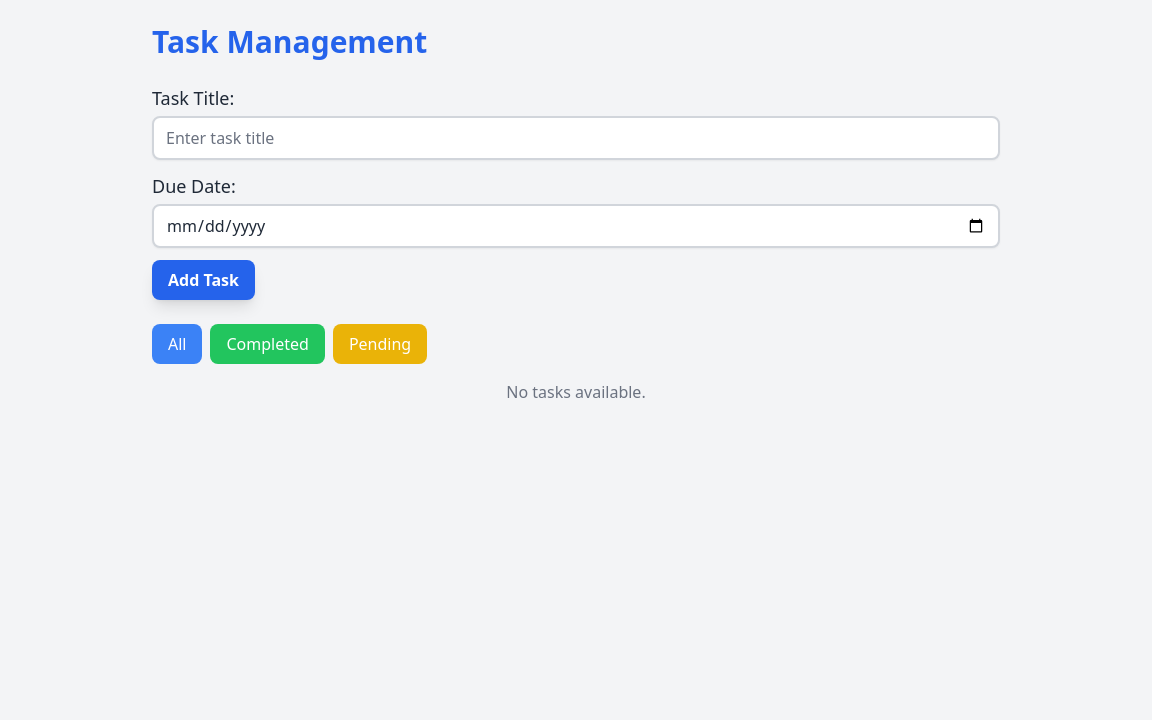
Test: HomePage › can edit a task
Type "Task to Edit" into the field with placeholder "Enter task title" at (576, 138), box [152,116,1000,160]
Type "2024-09-12" into the date field labelled "Due Date:" at (576, 226), box [152,204,1000,248]
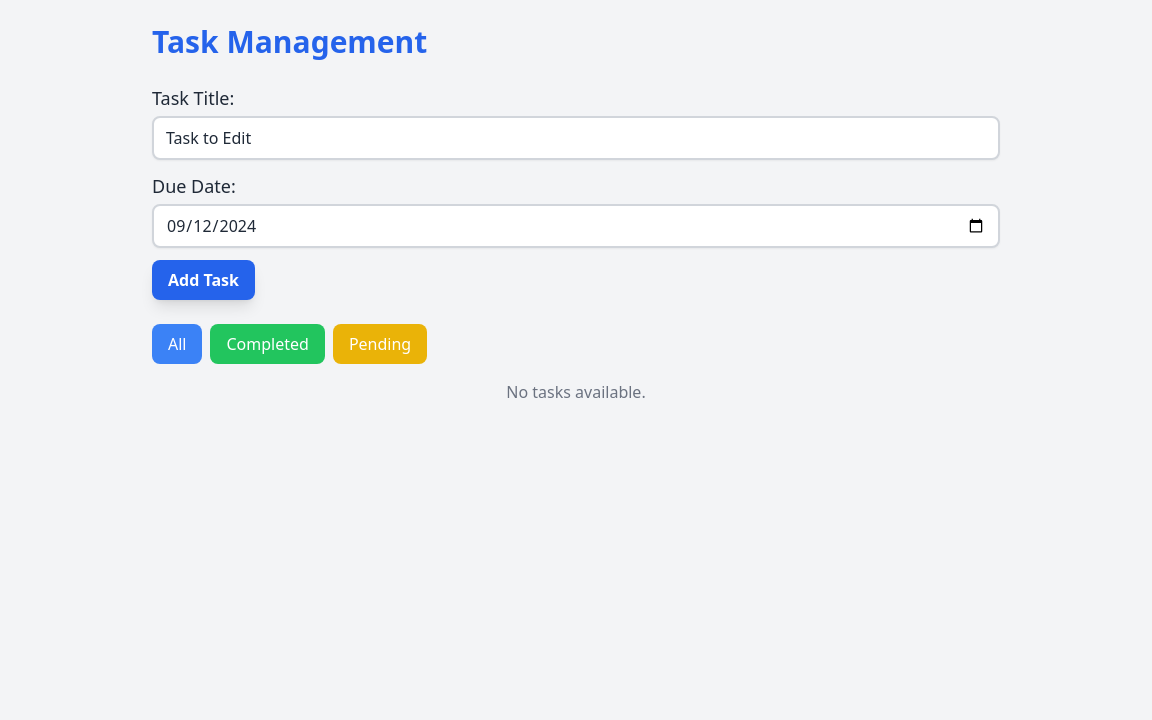
Click the button "Add Task" at (204, 280), box [152,260,255,300]
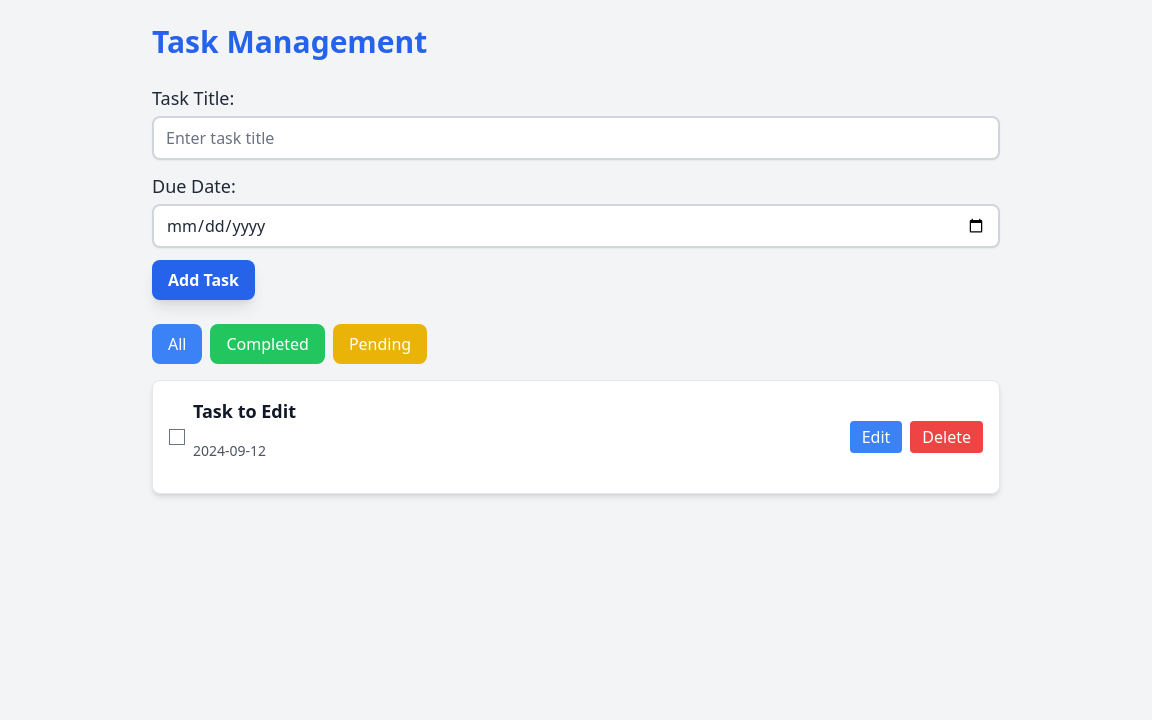
Click the button "Edit" at (876, 437), box [850,421,902,453]
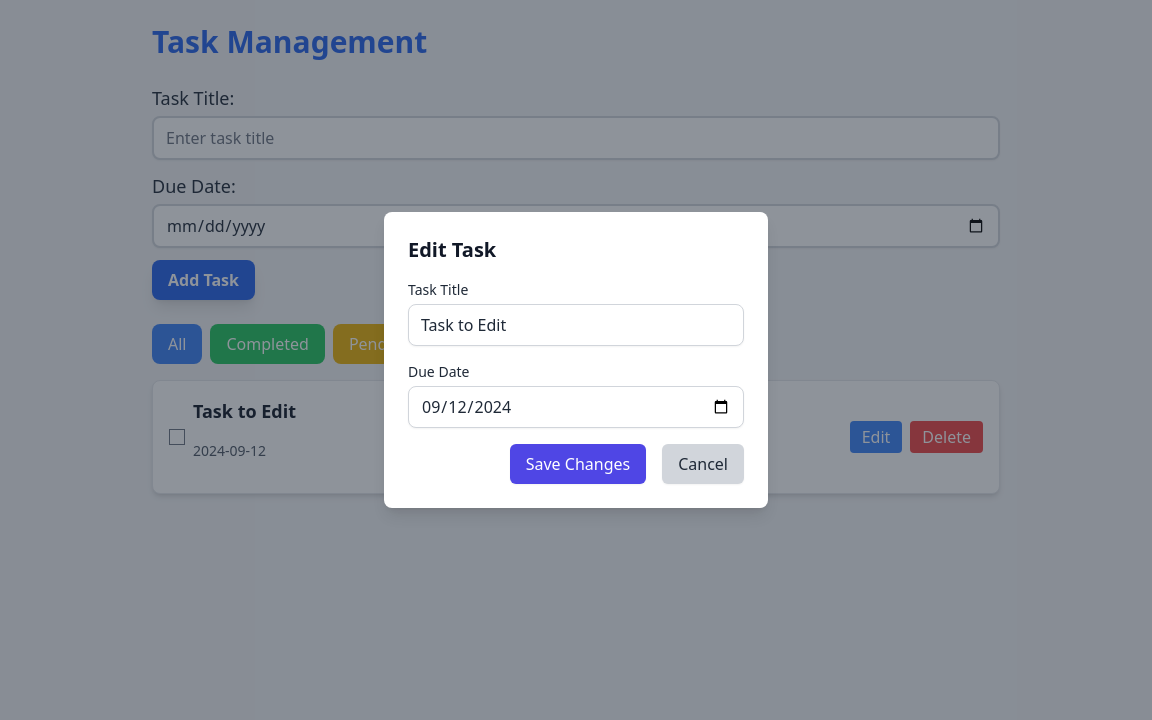
Replace the text in the field showing "Task to Edit" with "Edited Task" at (576, 325), box [408,304,744,346]
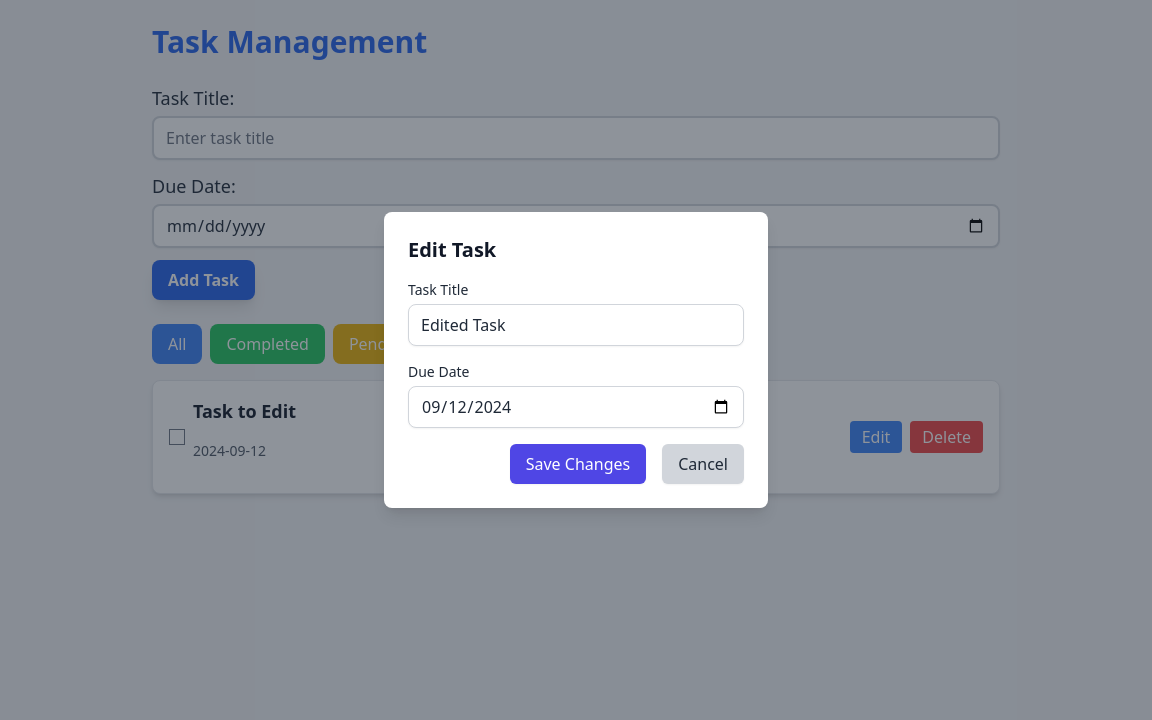
Type "2024-10-10" into the date field showing "2024-09-12" at (576, 407), box [408,386,744,428]
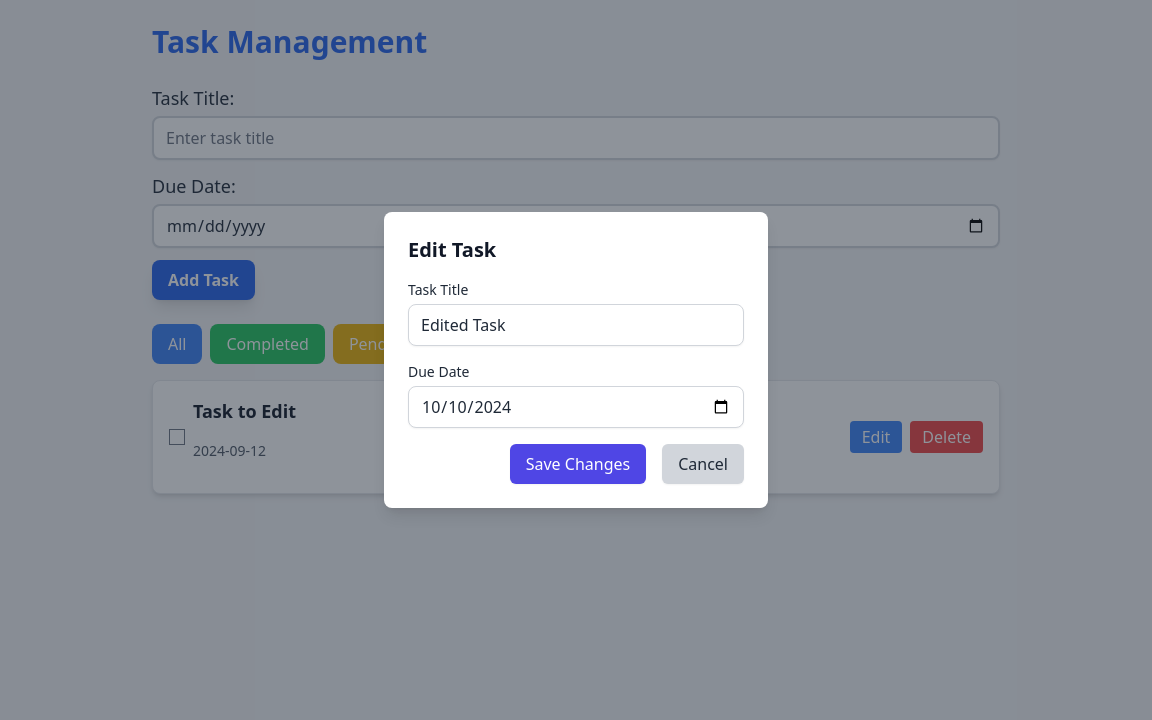
Click the button "Save Changes" at (578, 464), box [510,444,646,484]
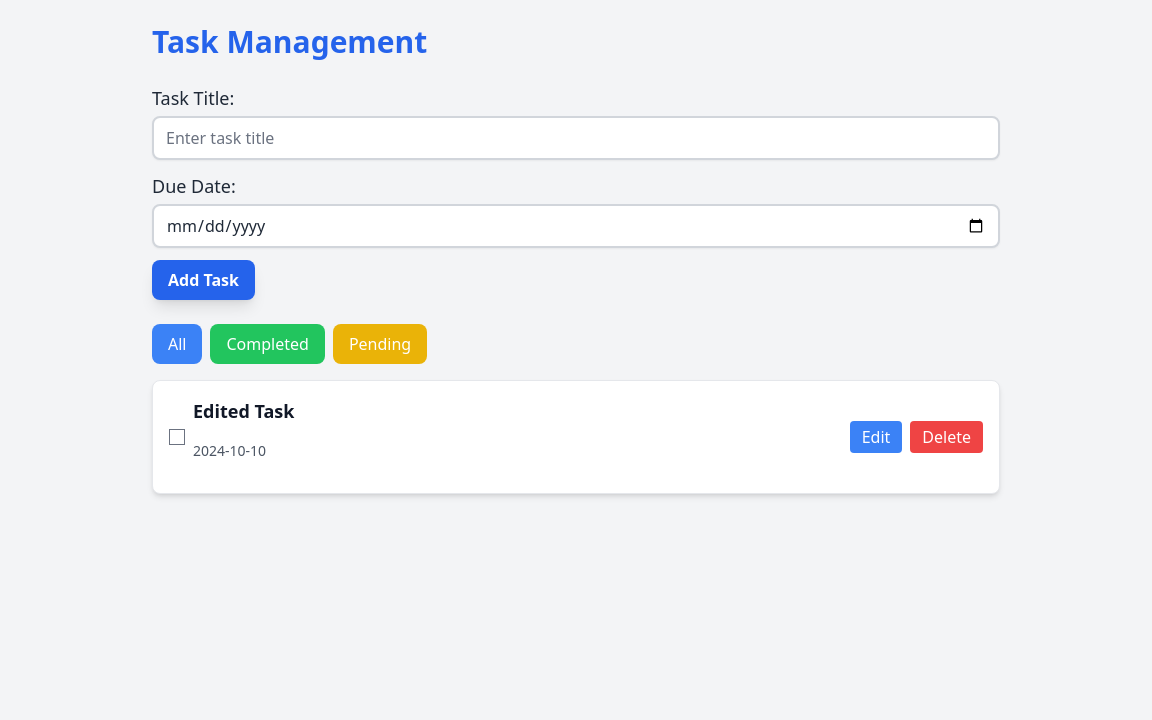
Expected: the text "Edited Task" is shown, [193,397,294,425]
Expected: the text "2024-10-10" is shown, [193,441,266,460]
